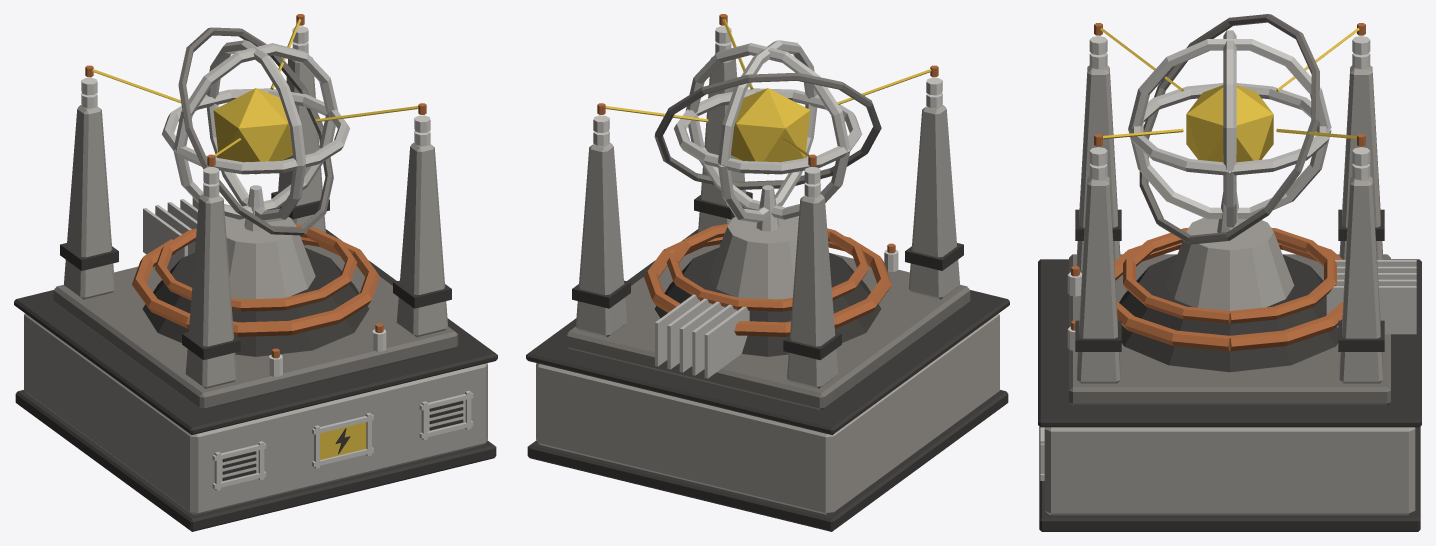
Rendered from reactor.fbx.
3 views of the same model, side by side, from view 1: azimuth 30°, elevation 25°; view 2: azimuth 150°, elevation 25°; view 3: azimuth 270°, elevation 25° (orthographic). The views are drawn at different scales.
Parts seen in each view (by area): view 1: reactor; view 2: reactor; view 3: reactor.
Part boxes in pixels (x1,y1,x2,y2): reactor: (14, 14, 497, 531); reactor: (526, 14, 1009, 531); reactor: (1038, 14, 1421, 531).
Size of the model in its own units: 8.94 by 10.62 by 8.94.
